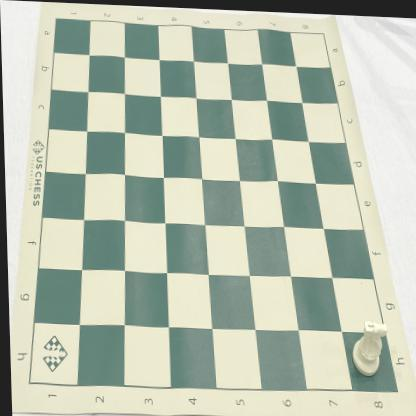white-knight: (349, 316, 387, 375)
